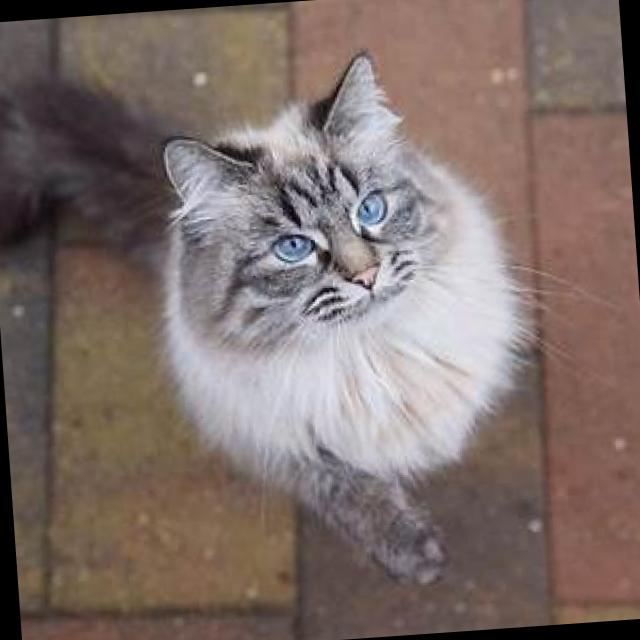animal: (0, 36, 546, 618)
